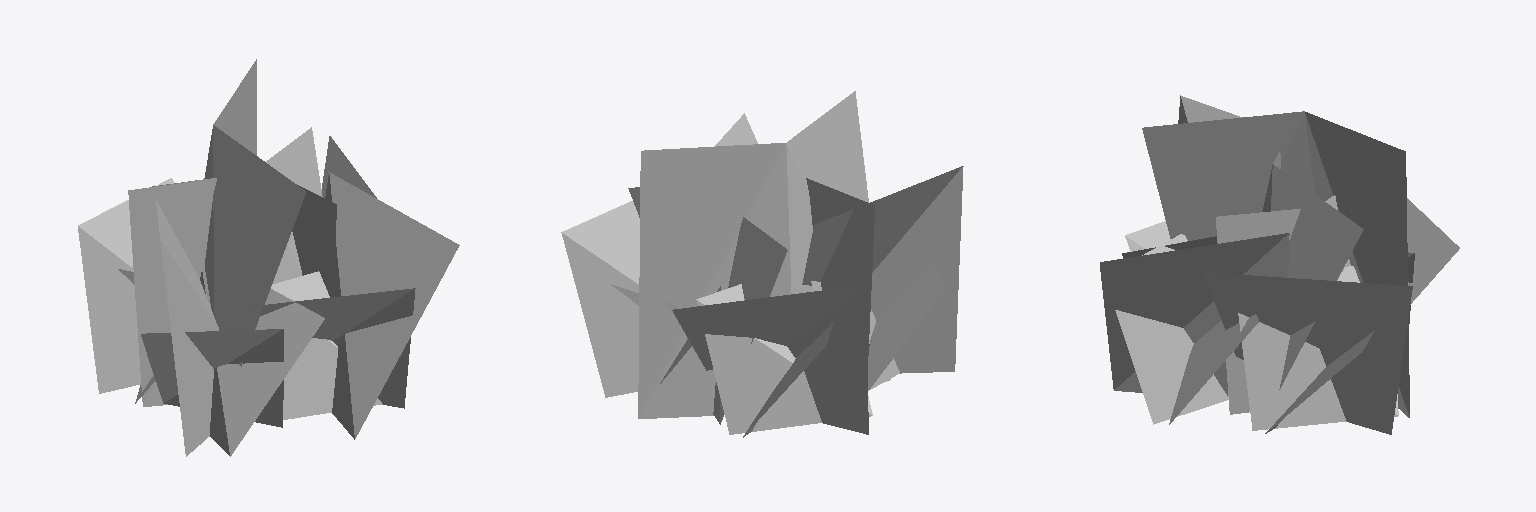
The model's file is volcanictundragrassobj01.obj.
3 renders of one model, left to right at view 1: azimuth 30°, elevation 25°; view 2: azimuth 150°, elevation 25°; view 3: azimuth 270°, elevation 25°, orthographic.
Parts seen in each view (by area): view 1: VolcanicGrassObj01_0; view 2: VolcanicGrassObj01_0; view 3: VolcanicGrassObj01_0.
Boxes of the visible parts, x1=… form: VolcanicGrassObj01_0: x1=78, y1=59, x2=459, y2=456; VolcanicGrassObj01_0: x1=561, y1=91, x2=963, y2=437; VolcanicGrassObj01_0: x1=1100, y1=95, x2=1459, y2=434.
Size of the model in its own units: 65.95 by 58.08 by 69.96.